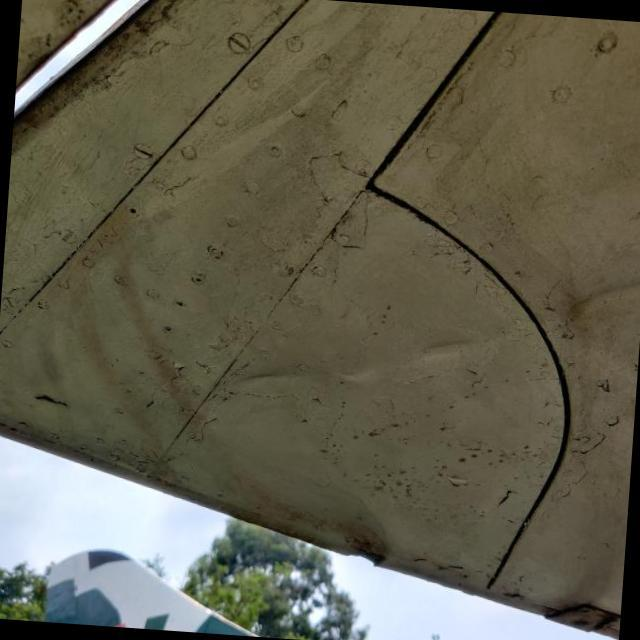Dent: (217, 336, 325, 418), (401, 309, 491, 394)
